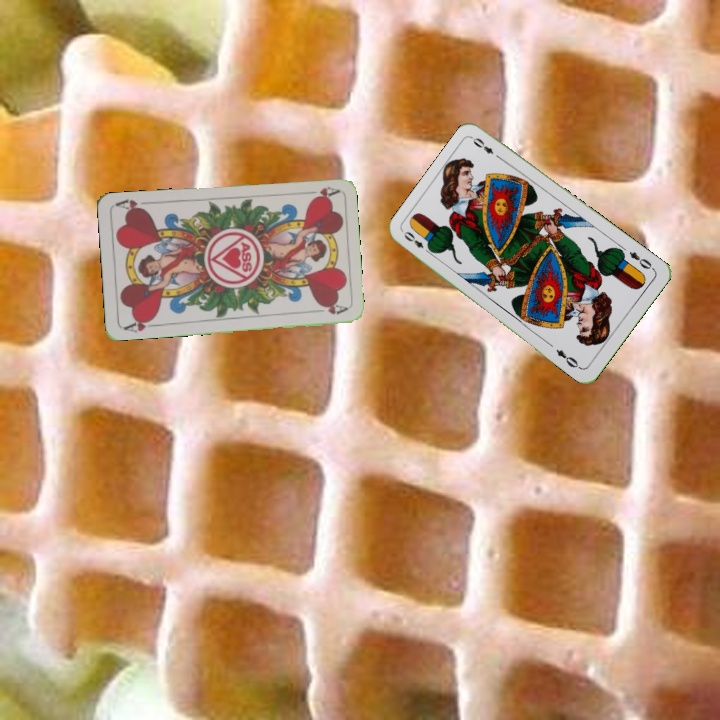EO: (400, 227, 435, 257), (625, 248, 657, 273)
HA: (120, 314, 160, 335), (300, 182, 340, 202)
